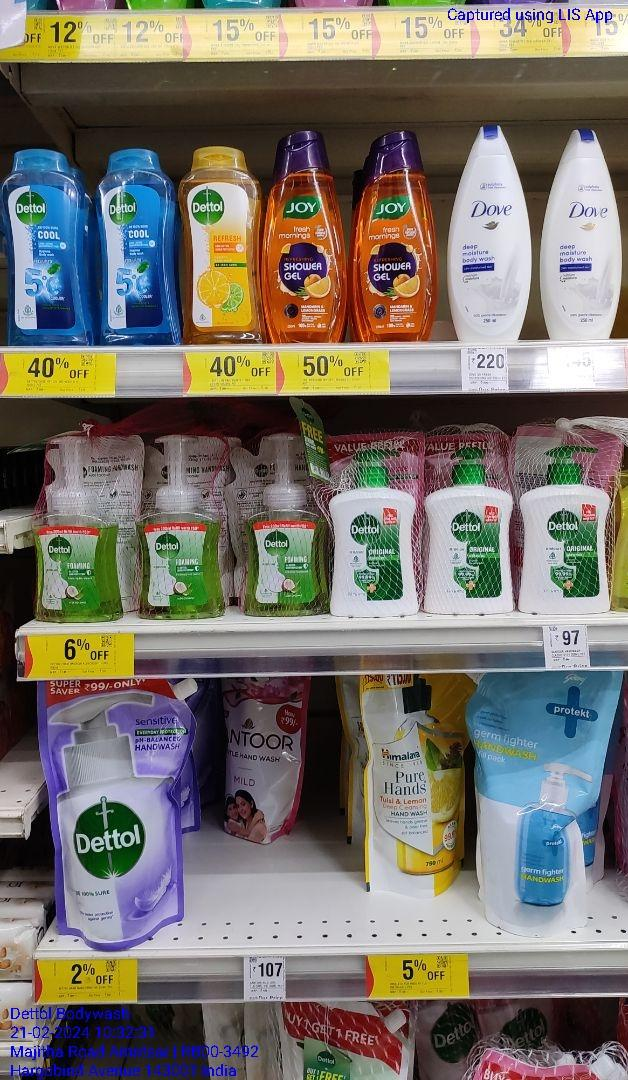Dettol_Bodywash_Cool: (2, 146, 95, 345), (100, 148, 179, 344)
Dettol_Bodywash_Refresh: (186, 140, 261, 348)
Dove_Deep_Moisture_Body_Wash_250ML: (446, 121, 532, 347), (537, 123, 623, 341)
Joy_Shower_Gel_Mandarin_and_Lemongrass_250ML: (266, 135, 346, 343), (353, 134, 432, 338)
